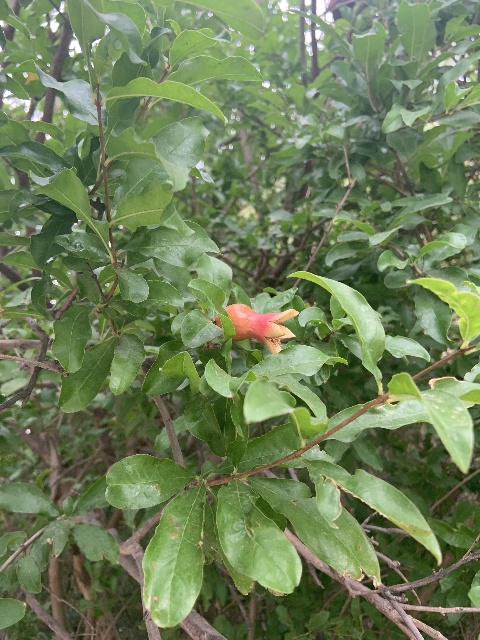early-fruit: (216, 302, 298, 354)
